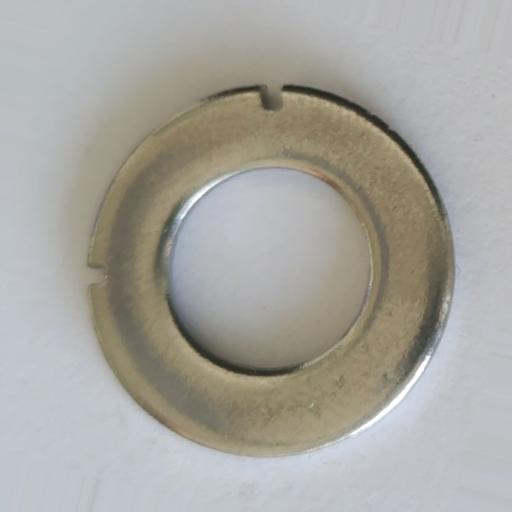burr: (257, 84, 285, 113), (86, 261, 109, 287)
